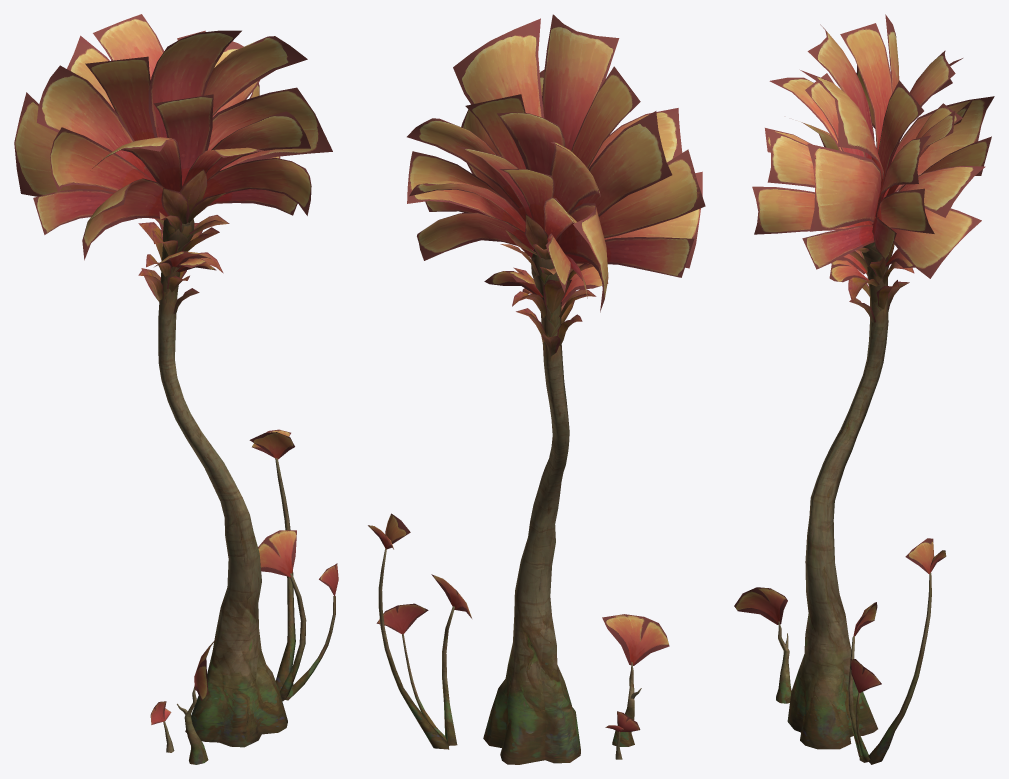
File: Homeworld_Exterior_Xm_Plant_Tree_Common_01_Lod0.fbx
3 views of the same model, side by side, from view 1: azimuth 30°, elevation 25°; view 2: azimuth 150°, elevation 25°; view 3: azimuth 270°, elevation 25° (orthographic). The views are drawn at different scales.
Visible parts, largest first — view 1: Area_Xm_Tree_Common_Cys_01_Leaf_Lod0, Area_Xm_Tree_Common_Cys_01_Bark_Lod0; view 2: Area_Xm_Tree_Common_Cys_01_Leaf_Lod0, Area_Xm_Tree_Common_Cys_01_Bark_Lod0; view 3: Area_Xm_Tree_Common_Cys_01_Leaf_Lod0, Area_Xm_Tree_Common_Cys_01_Bark_Lod0.
Part boxes in pixels (x1,y1,x2,y2): Area_Xm_Tree_Common_Cys_01_Leaf_Lod0: (14,14,338,724); Area_Xm_Tree_Common_Cys_01_Bark_Lod0: (158,218,335,764); Area_Xm_Tree_Common_Cys_01_Leaf_Lod0: (368,14,705,732); Area_Xm_Tree_Common_Cys_01_Bark_Lod0: (378,249,641,764); Area_Xm_Tree_Common_Cys_01_Leaf_Lod0: (734,14,994,692); Area_Xm_Tree_Common_Cys_01_Bark_Lod0: (776,242,931,764).
Size of the model in its own units: 3.9 by 8.61 by 3.02.
